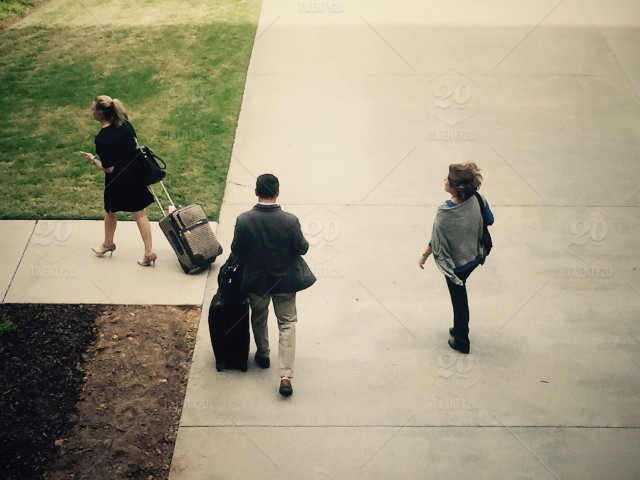Person: (230, 173, 317, 401), (413, 160, 497, 360), (74, 93, 165, 272)
